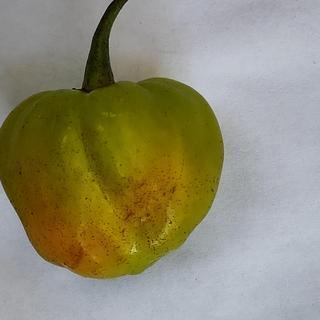Grade-B: (0, 76, 226, 282)
